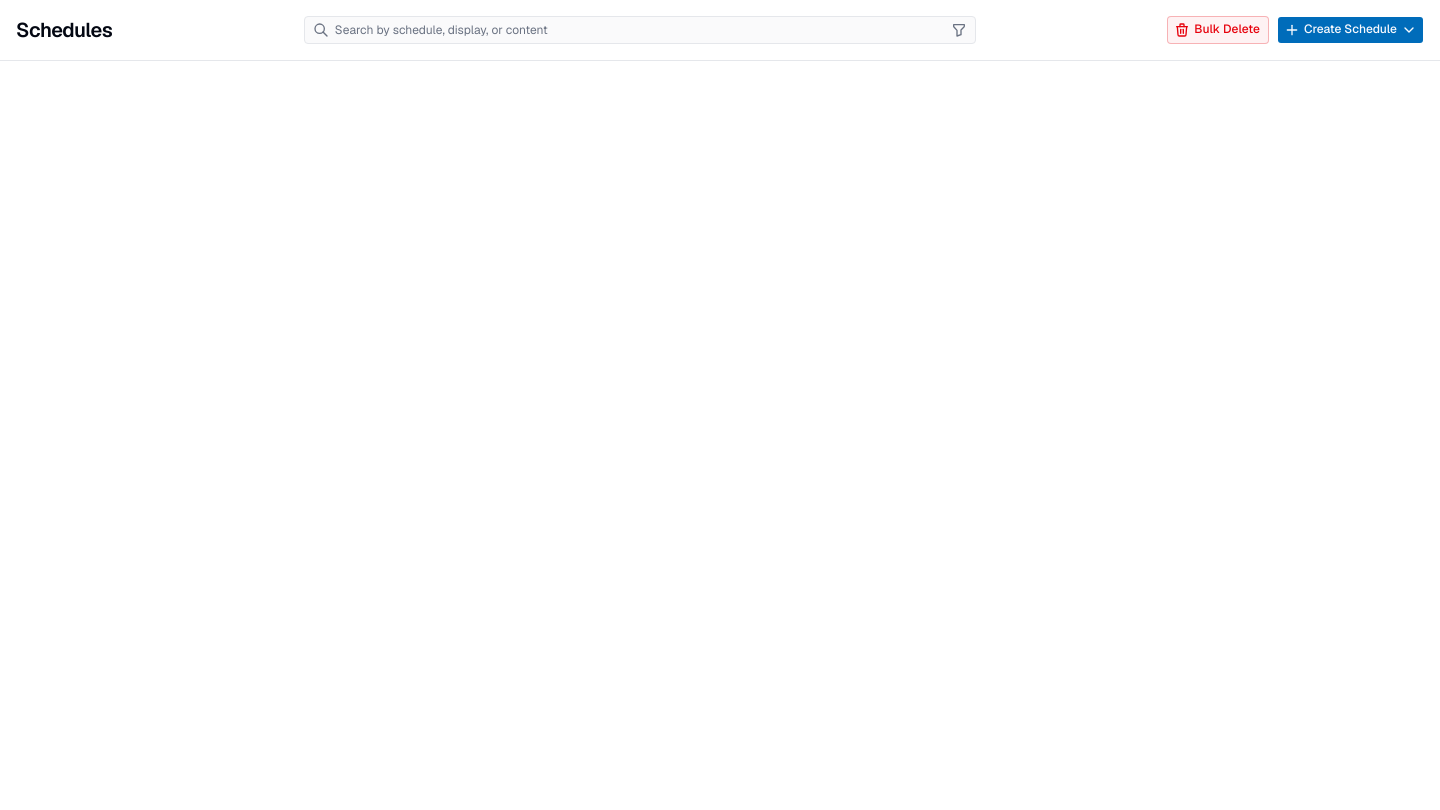
Test: SchedulesToolbar › opens filters from the merged search control
The width and height of the screenshot is (1440, 810).
Step 1. Click the button named "Filter schedules" → [959, 30], box [947, 18, 971, 42]
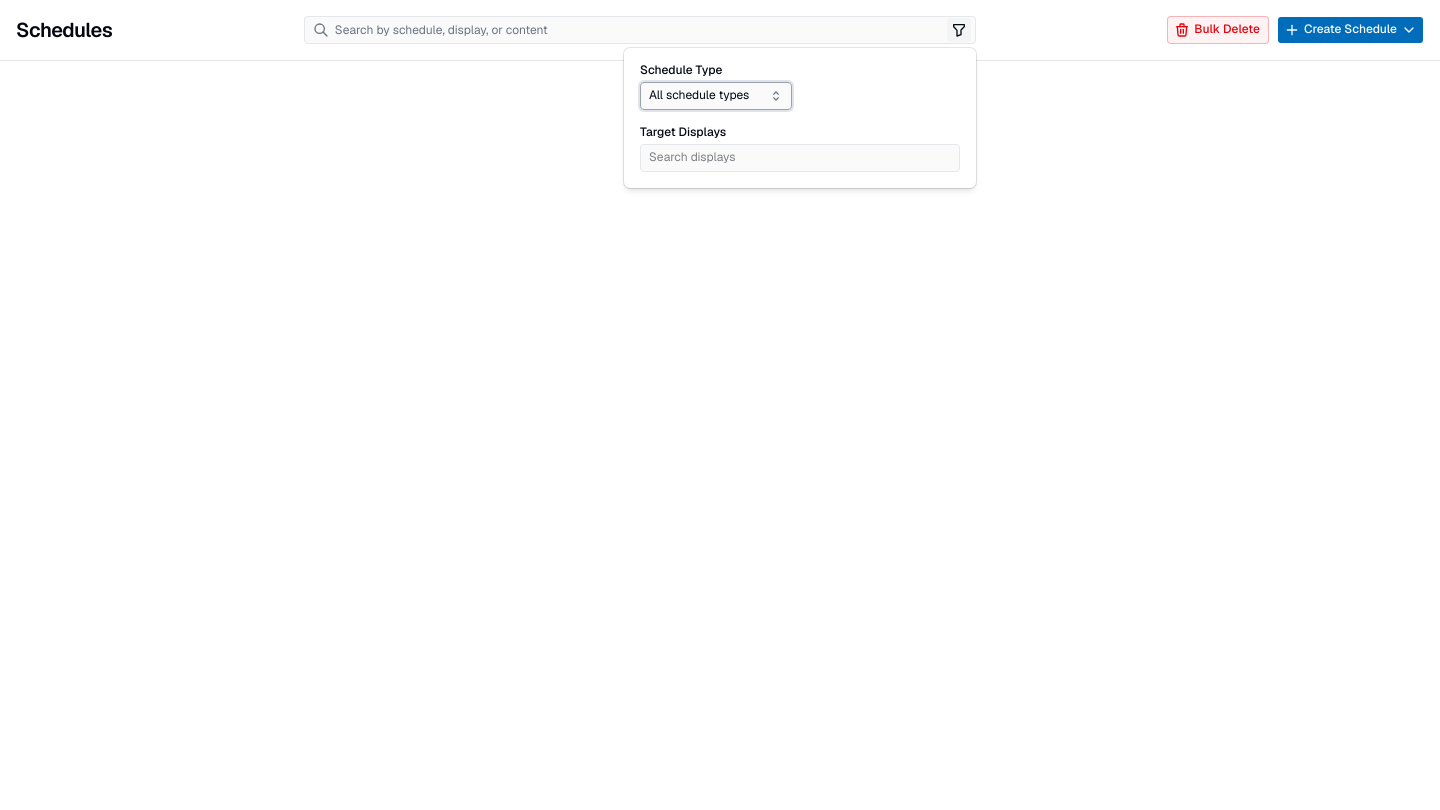
Expected: the dialog named "Schedule filters" is shown, [624, 48, 976, 188]
Expected: the dropdown labelled "schedule type" is shown, [640, 82, 792, 110]
Expected: the dropdown labelled "Target Displays" is shown, [649, 148, 951, 168]
